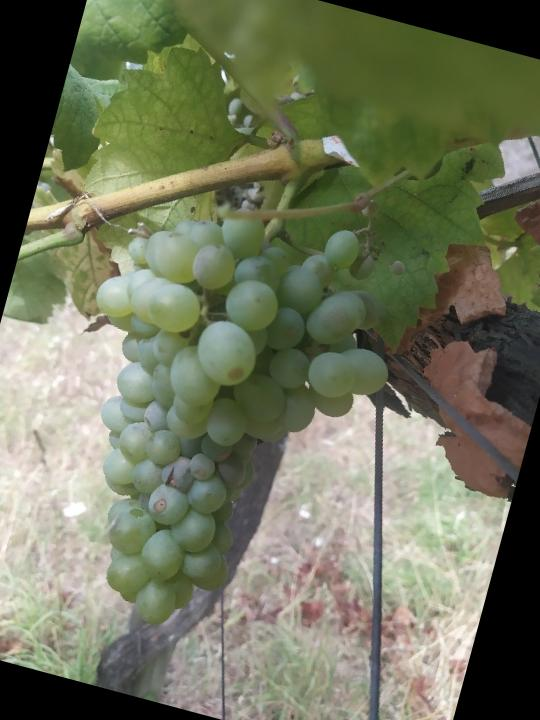grape: (17, 169, 426, 667)
